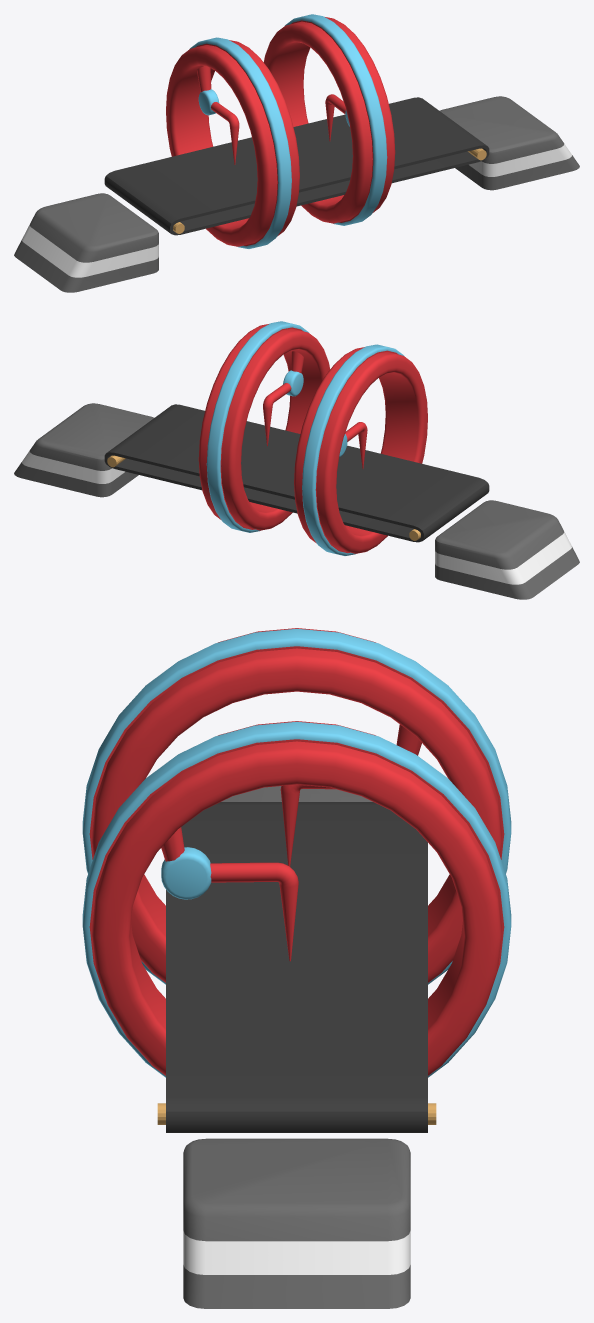
File: makina10.fbx
3 views of the same model, one above another, from view 1: azimuth 30°, elevation 25°; view 2: azimuth 150°, elevation 25°; view 3: azimuth 270°, elevation 25° (orthographic). The views are drawn at different scales.
Parts seen in each view (by area): view 1: palet, stack, govde2, govde1, kolUSt, igne, igne2; view 2: palet, stack, govde2, govde1, kolUSt2, igne2, igne; view 3: palet, govde1, stack, govde2, igne2, kolUSt2, igne.
Part boxes in pixels (box(x1,y1,x2,y2)): palet: box(104, 97, 489, 235); stack: box(14, 96, 579, 292); govde2: box(166, 37, 299, 248); govde1: box(263, 14, 395, 225); kolUSt: box(197, 66, 219, 115); igne: box(211, 102, 239, 164); igne2: box(325, 94, 345, 141); palet: box(104, 404, 489, 542); stack: box(14, 403, 579, 599); govde2: box(294, 344, 427, 555); govde1: box(198, 321, 330, 532); kolUSt2: box(283, 351, 304, 396); igne2: box(263, 383, 291, 445); igne: box(345, 422, 367, 468); palet: box(157, 802, 436, 1132); govde1: box(82, 721, 511, 1077); stack: box(183, 786, 410, 1308); govde2: box(82, 628, 511, 984); igne2: box(210, 862, 298, 961); kolUSt2: box(161, 827, 211, 899); igne: box(280, 784, 335, 866).
Size of the model in its own units: 611 by 219 by 219.
